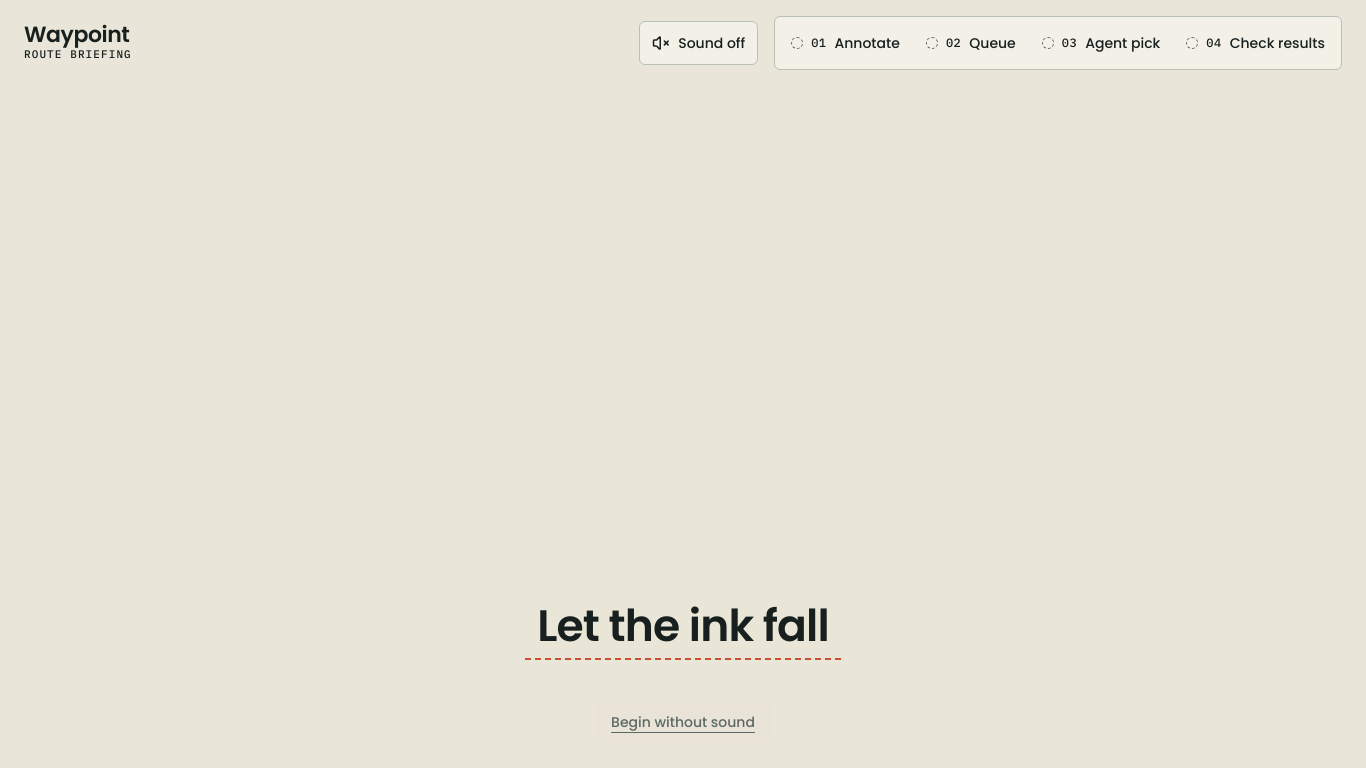
it: OpenDesign ink map journey › Let the ink fall entrance › turns sound on within the press and cues the drip and the blob
This screenshot has width=1366, height=768.
Click the button "Let the ink fall" at {"x": 683, "y": 384}, box [0, 0, 1365, 767]
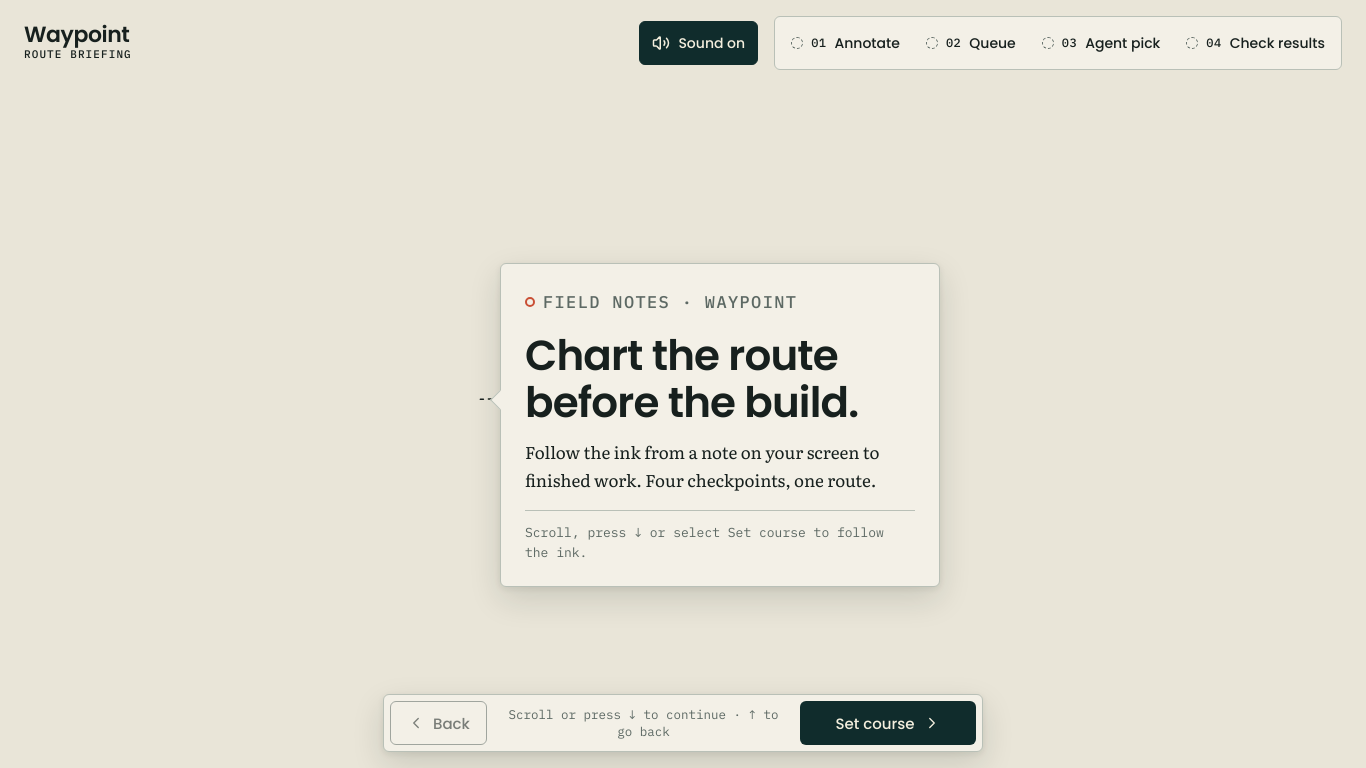
Expected: the button "Let the ink fall" is gone
Expected: the button "Begin without sound" is gone
Expected: the heading "Chart the route before the build." is shown, [525, 332, 915, 426]
